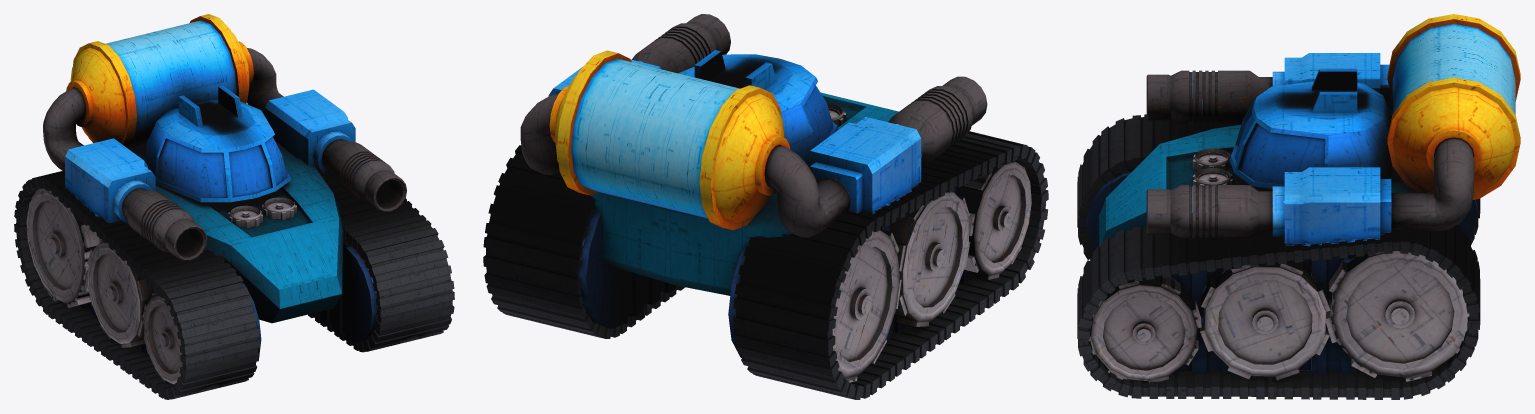
Rendered from PlayerB10.obj.
3 views of the same model, side by side, from view 1: azimuth 30°, elevation 25°; view 2: azimuth 150°, elevation 25°; view 3: azimuth 270°, elevation 25° (orthographic). The views are drawn at different scales.
Visible parts, largest first — view 1: Object001, Box042, Object004, Object003, Object002; view 2: Object001, Box042, Object003, Object004, Object002; view 3: Object001, Box042, Object004, Object003, Object002.
Boxes of the visible parts, left/top/right/bottom form: Object001: left=43, top=14, right=406, bottom=356; Box042: left=14, top=171, right=454, bottom=399; Object004: left=26, top=188, right=99, bottom=307; Object003: left=87, top=238, right=154, bottom=347; Object002: left=142, top=292, right=182, bottom=384; Object001: left=520, top=14, right=987, bottom=357; Box042: left=483, top=131, right=1048, bottom=399; Object003: left=890, top=191, right=970, bottom=326; Object004: left=832, top=229, right=901, bottom=382; Object002: left=958, top=161, right=1031, bottom=279; Object001: left=1085, top=14, right=1520, bottom=374; Box042: left=1077, top=114, right=1480, bottom=399; Object004: left=1326, top=251, right=1469, bottom=381; Object003: left=1200, top=260, right=1330, bottom=380; Object002: left=1088, top=276, right=1201, bottom=383.
Bounding box in the file's own units: 121 × 100 × 147.
2 materials, 2 textured.
